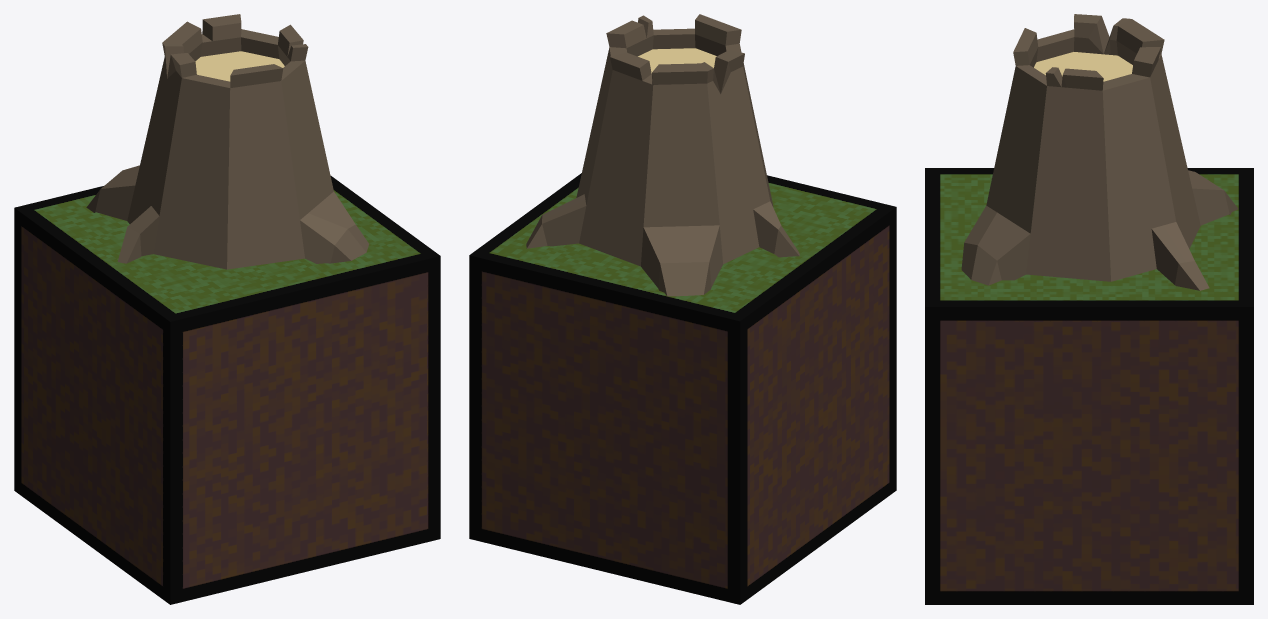
The model's file is TreeStumpMarsh1.glb.
The picture shows the model from 3 angles, left to right: view 1: azimuth 30°, elevation 25°; view 2: azimuth 150°, elevation 25°; view 3: azimuth 270°, elevation 25°; orthographic projection. The views are drawn at different scales.
Parts seen in each view (by area): view 1: DarkGrass.Baked, Cylinder.001; view 2: DarkGrass.Baked, Cylinder.001; view 3: DarkGrass.Baked, Cylinder.001.
Boxes of the visible parts, x1=… form: DarkGrass.Baked: x1=14, y1=176, x2=440, y2=604; Cylinder.001: x1=86, y1=14, x2=368, y2=269; DarkGrass.Baked: x1=469, y1=173, x2=896, y2=604; Cylinder.001: x1=526, y1=14, x2=799, y2=296; DarkGrass.Baked: x1=925, y1=168, x2=1253, y2=604; Cylinder.001: x1=961, y1=14, x2=1238, y2=290.
Bounding box in the file's own units: 0.98 × 1.62 × 0.98.
Materials: 3 (1 with a texture image).
